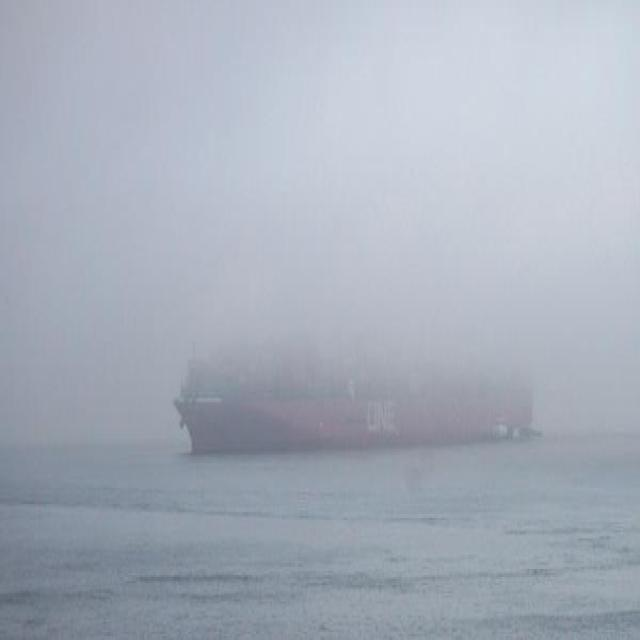cargoship: (177, 296, 533, 453)
